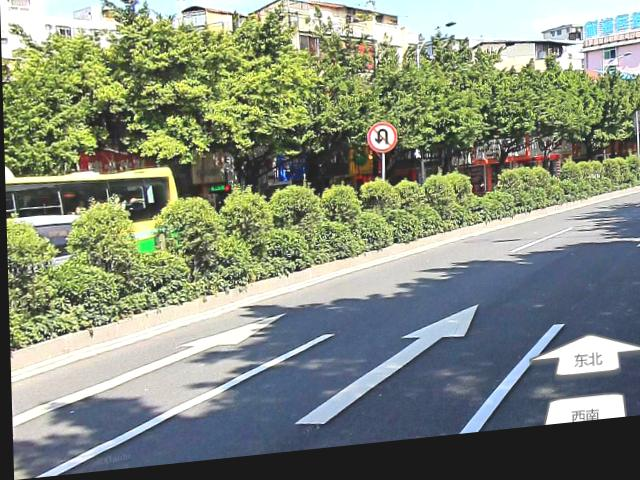not_u_turn_left: (362, 128, 396, 163)
